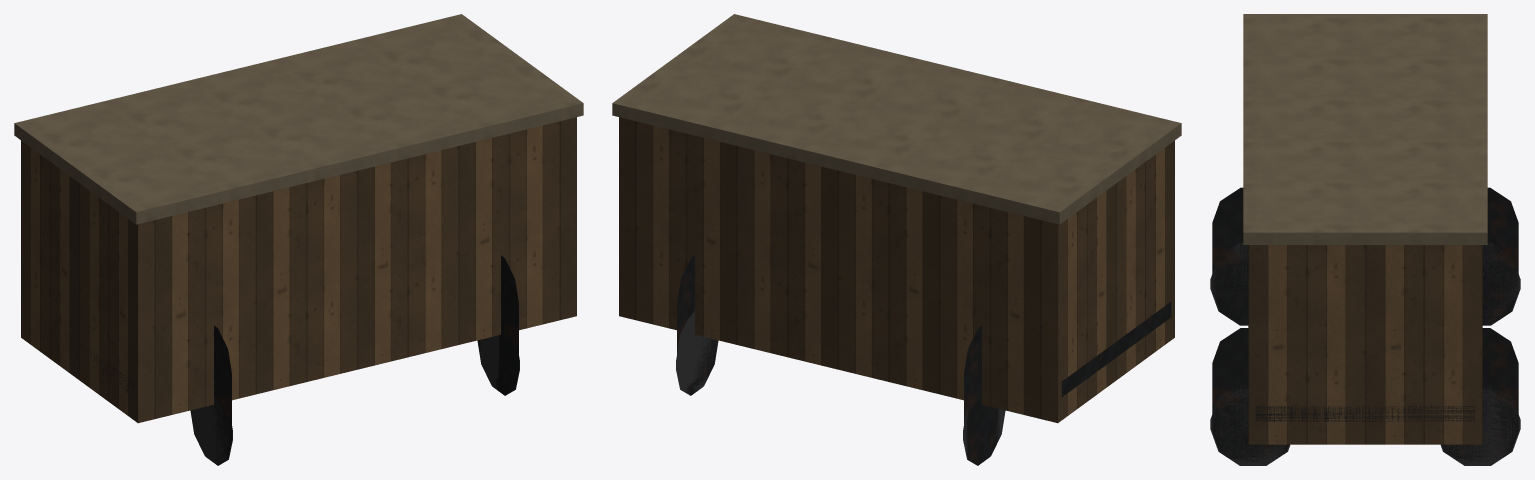
The model's file is A_van.glb.
3 views of the same model, side by side, from view 1: azimuth 30°, elevation 25°; view 2: azimuth 150°, elevation 25°; view 3: azimuth 270°, elevation 25° (orthographic).
Parts seen in each view (by area): view 1: A_van; view 2: A_van; view 3: A_van.
Boxes of the visible parts, <box> form: A_van: <box>14,14,583,465</box>; A_van: <box>612,14,1181,465</box>; A_van: <box>1210,14,1520,465</box>.
Bounding box in the file's own units: 5.3 × 3.08 × 3.18.
Materials: 4 (3 with a texture image).
